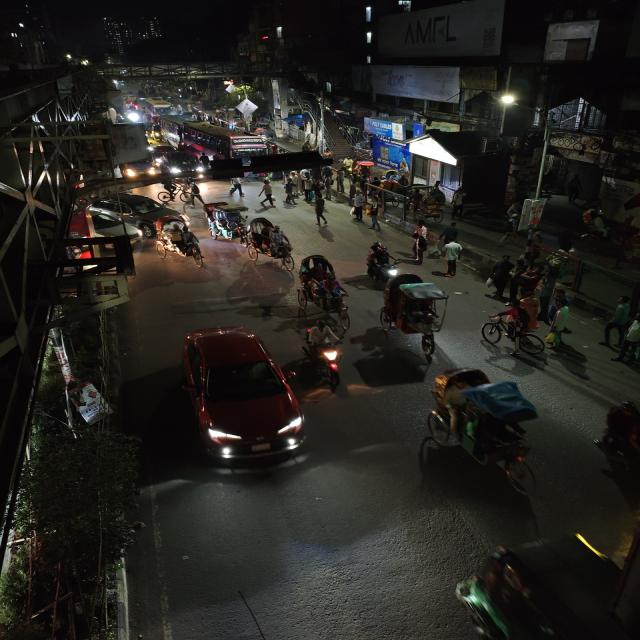bicycle: (471, 308, 544, 357), (151, 186, 199, 202)
bus: (179, 123, 271, 162)
car: (171, 325, 310, 475), (84, 192, 190, 234), (160, 151, 204, 179)
motorcycle: (298, 318, 349, 378), (364, 241, 399, 283)
pedestrian: (596, 295, 636, 355), (544, 293, 577, 347), (486, 254, 514, 299), (618, 311, 640, 368), (439, 238, 466, 276), (362, 194, 388, 232), (308, 189, 334, 227), (409, 230, 432, 264), (438, 222, 461, 250), (256, 178, 276, 210), (348, 192, 367, 224), (282, 172, 301, 204), (227, 177, 246, 201), (304, 182, 323, 205), (300, 180, 316, 204)
pickup_van: (120, 154, 160, 180)
rickshaw: (416, 362, 555, 486), (378, 272, 457, 351), (295, 251, 350, 317), (235, 216, 296, 270), (152, 214, 208, 268), (202, 200, 251, 243)
